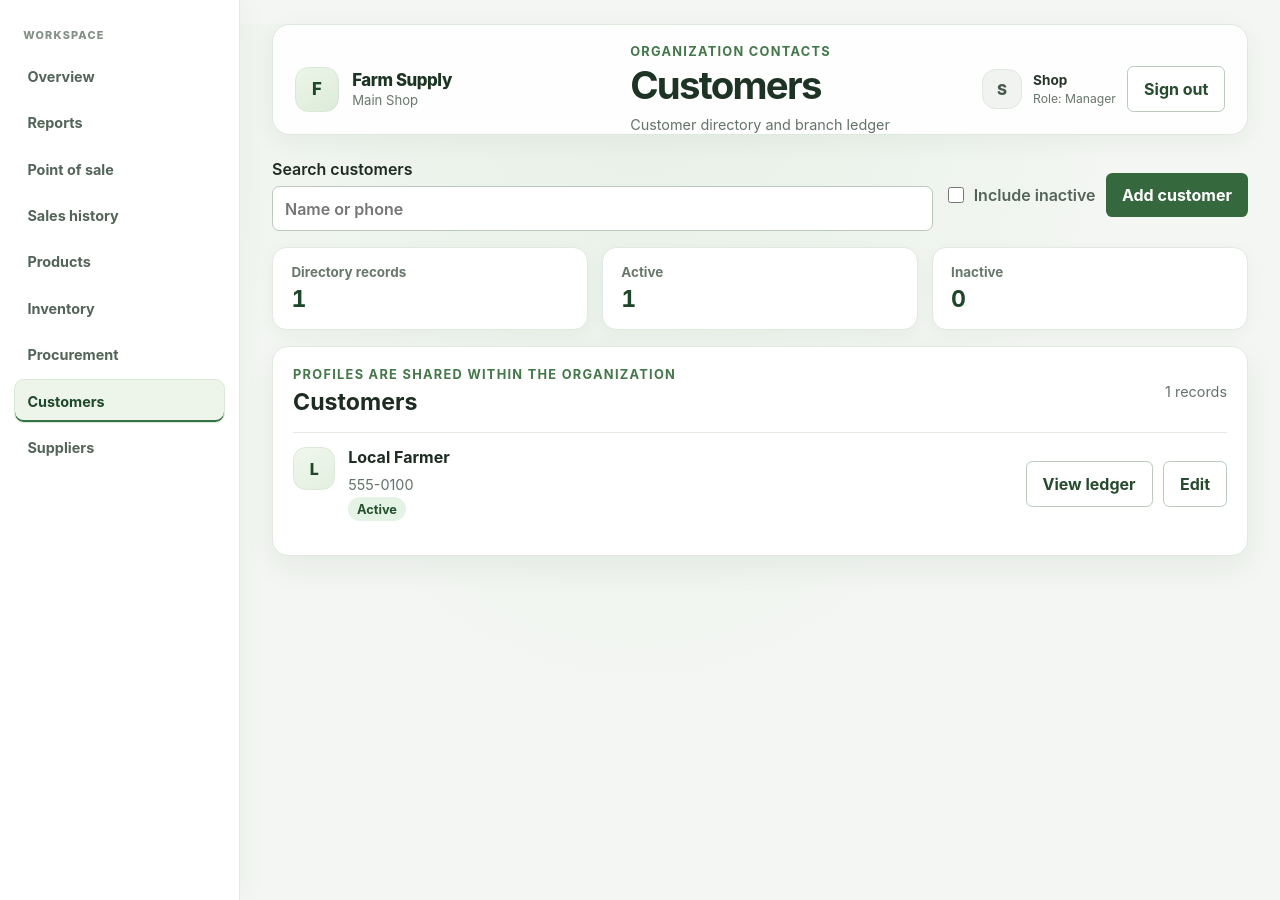
Test: customer and supplier workspaces › creates a customer and presents its branch ledger as read-only
Click the button "View ledger". click: coordinates (1089, 484)
box: [1026,461,1153,507]
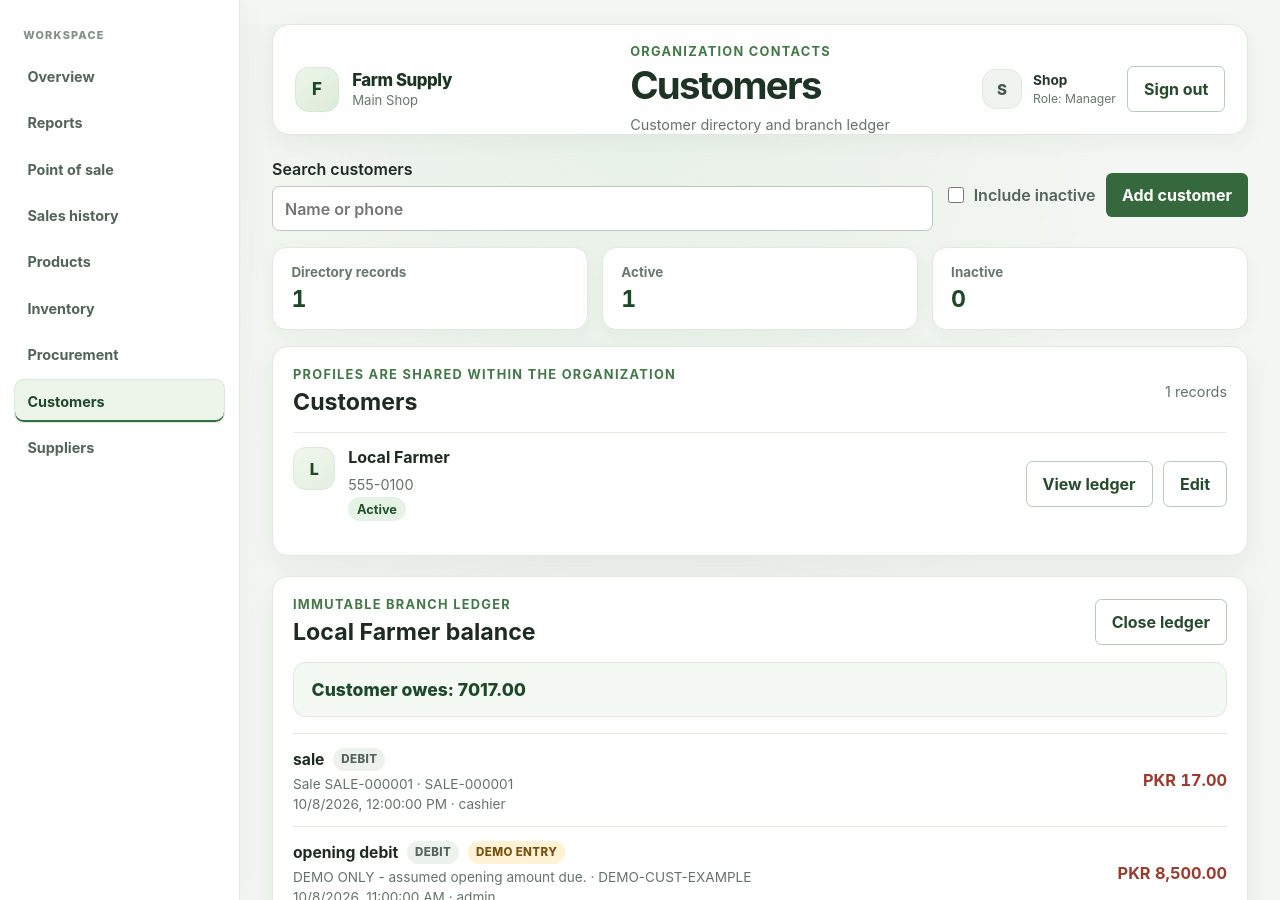
Check: the text "Customer owes: 7017.00" is shown, box [293,662,1227,717]
Check: the text "Sale SALE-000001 · SALE-000001" is shown, box [293,776,513,792]
Check: the text "Demo entry" is shown 2 times
Click the button "Add customer". click: coordinates (1177, 195)
box: [1106,173,1248,217]
(page scrolled)
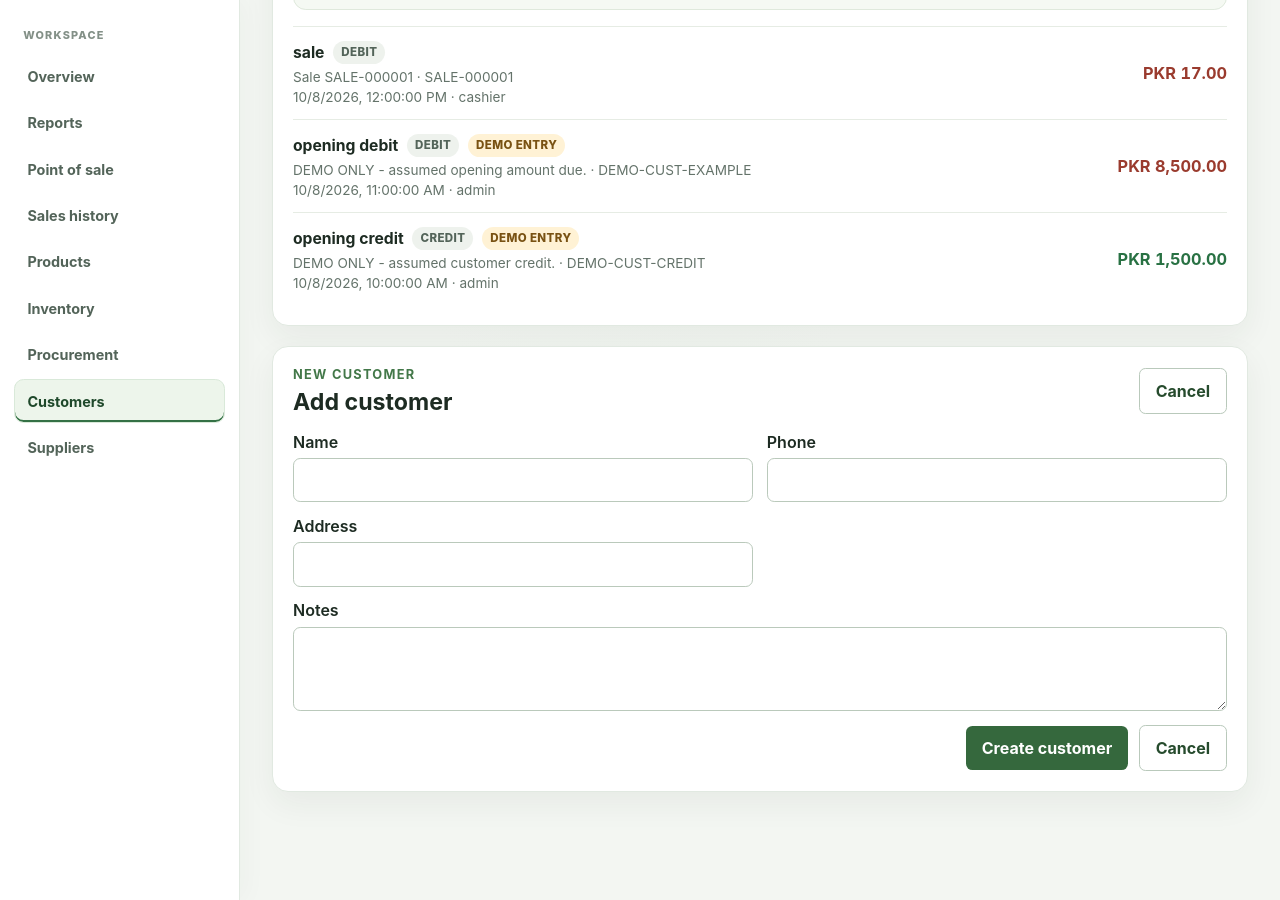
Type "Another Farmer" into the field labelled "Name". click: coordinates (523, 480)
box: [293,458,753,502]
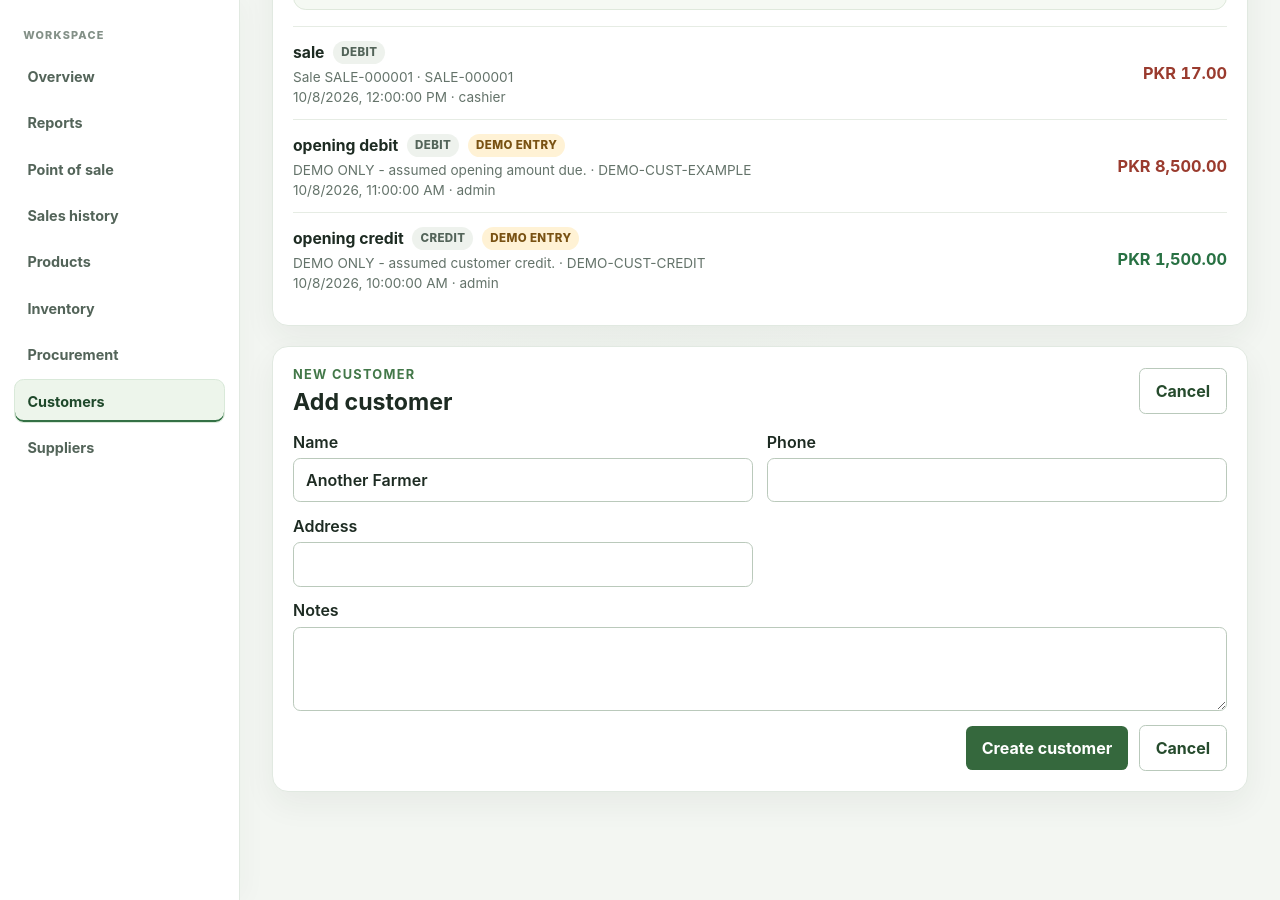
Type "555-0101" into the field labelled "Phone". click: coordinates (997, 480)
box: [767,458,1227,502]
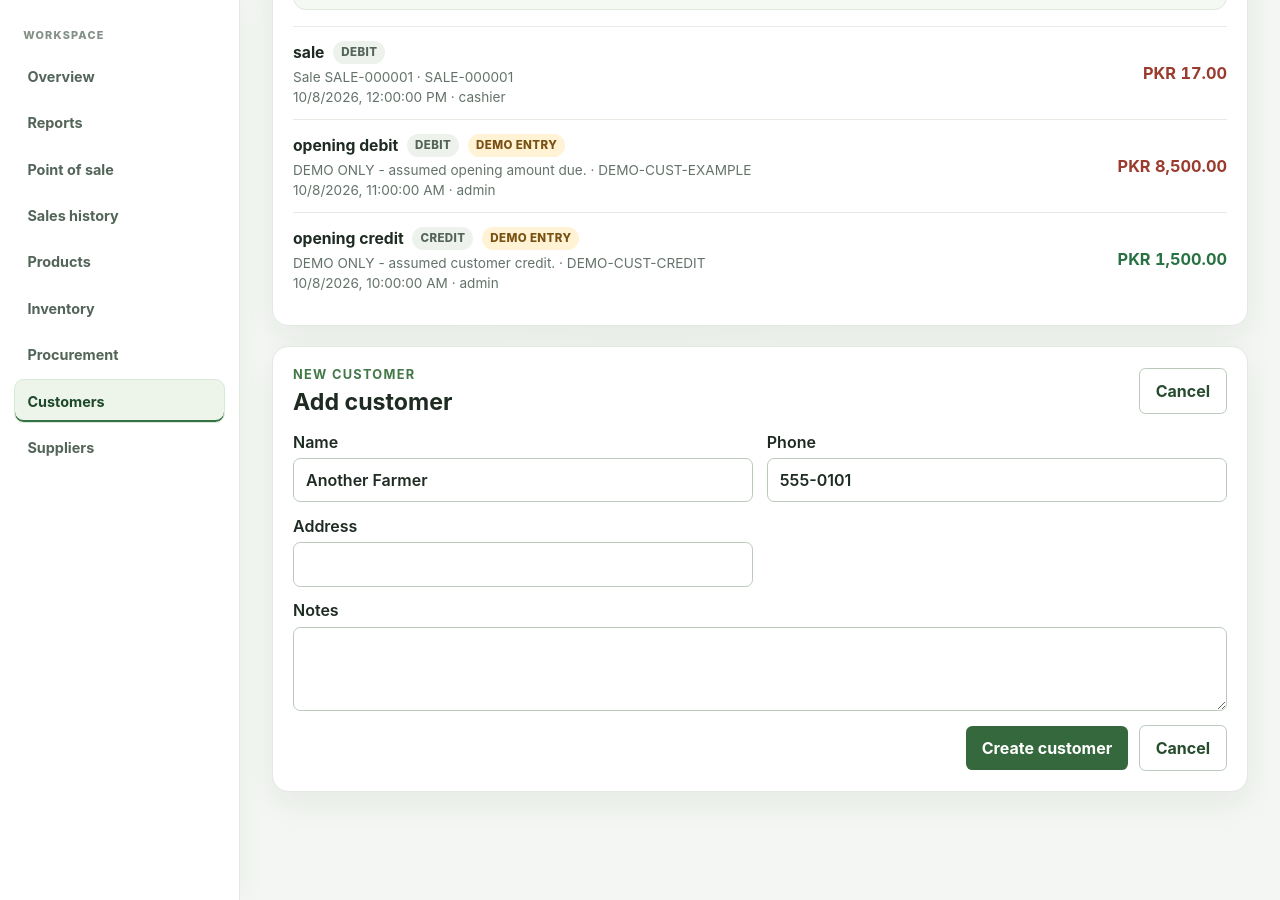
Click the button "Create customer". click: coordinates (1047, 748)
box: [966,726,1128,770]
(page scrolled)
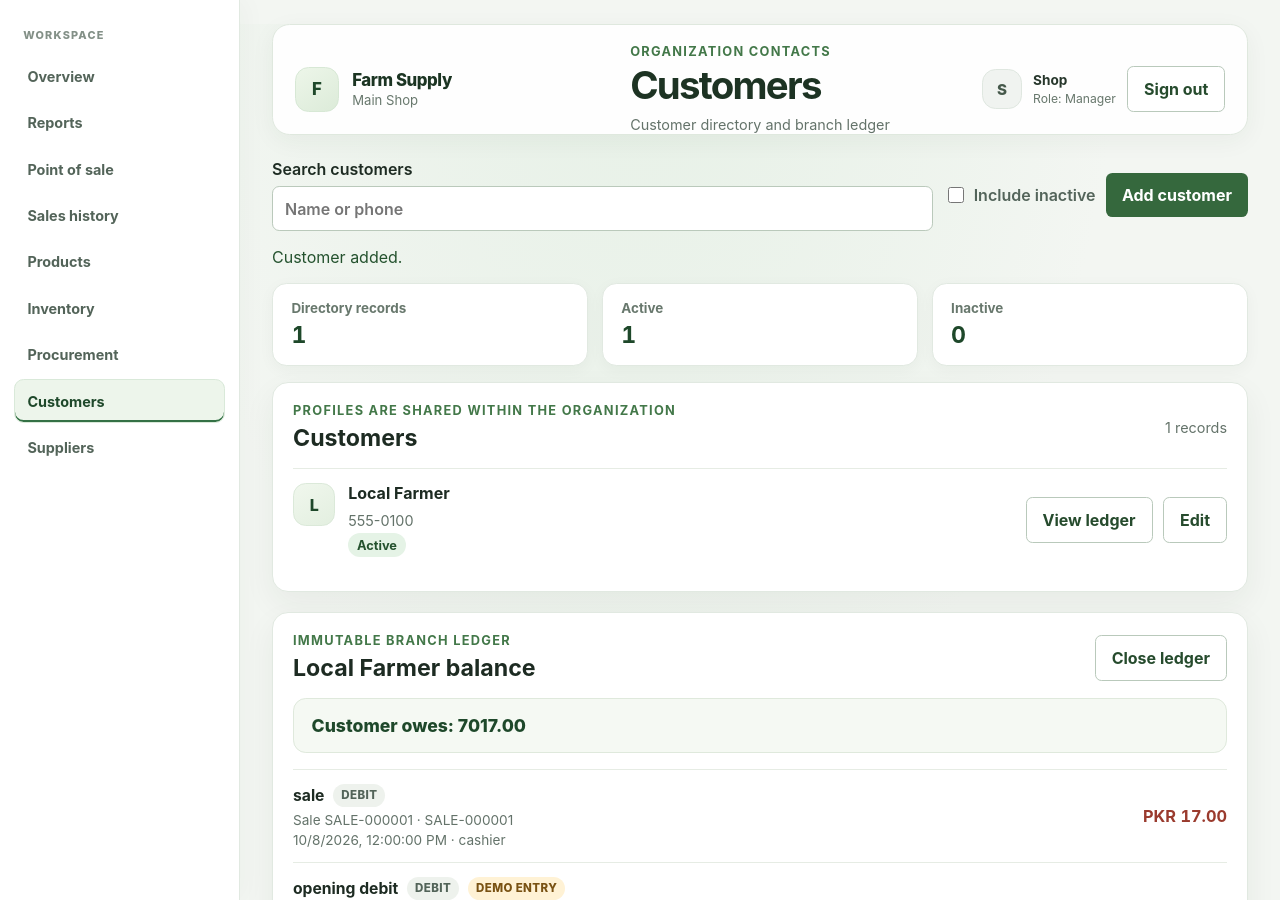
Check: the text "Customer added." is shown, box [272,247,402,267]
